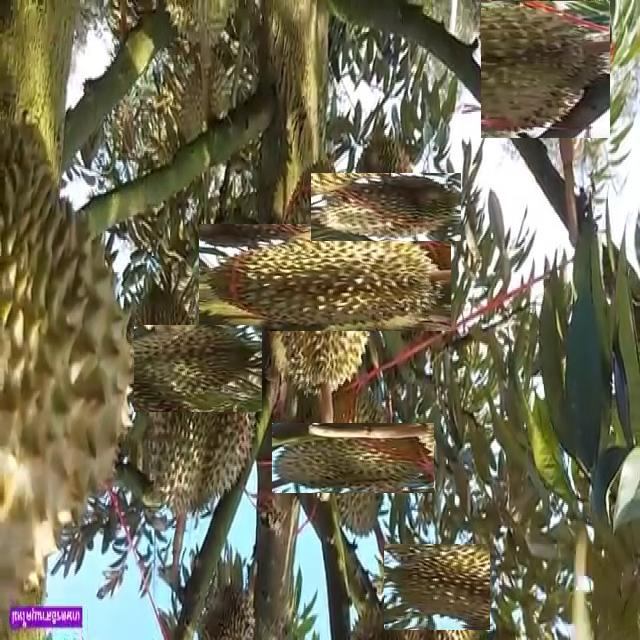durian: (1, 113, 134, 607), (235, 188, 415, 368), (140, 340, 257, 526), (477, 0, 614, 135), (104, 301, 239, 435), (295, 399, 411, 516), (331, 152, 441, 261), (388, 539, 485, 635)
